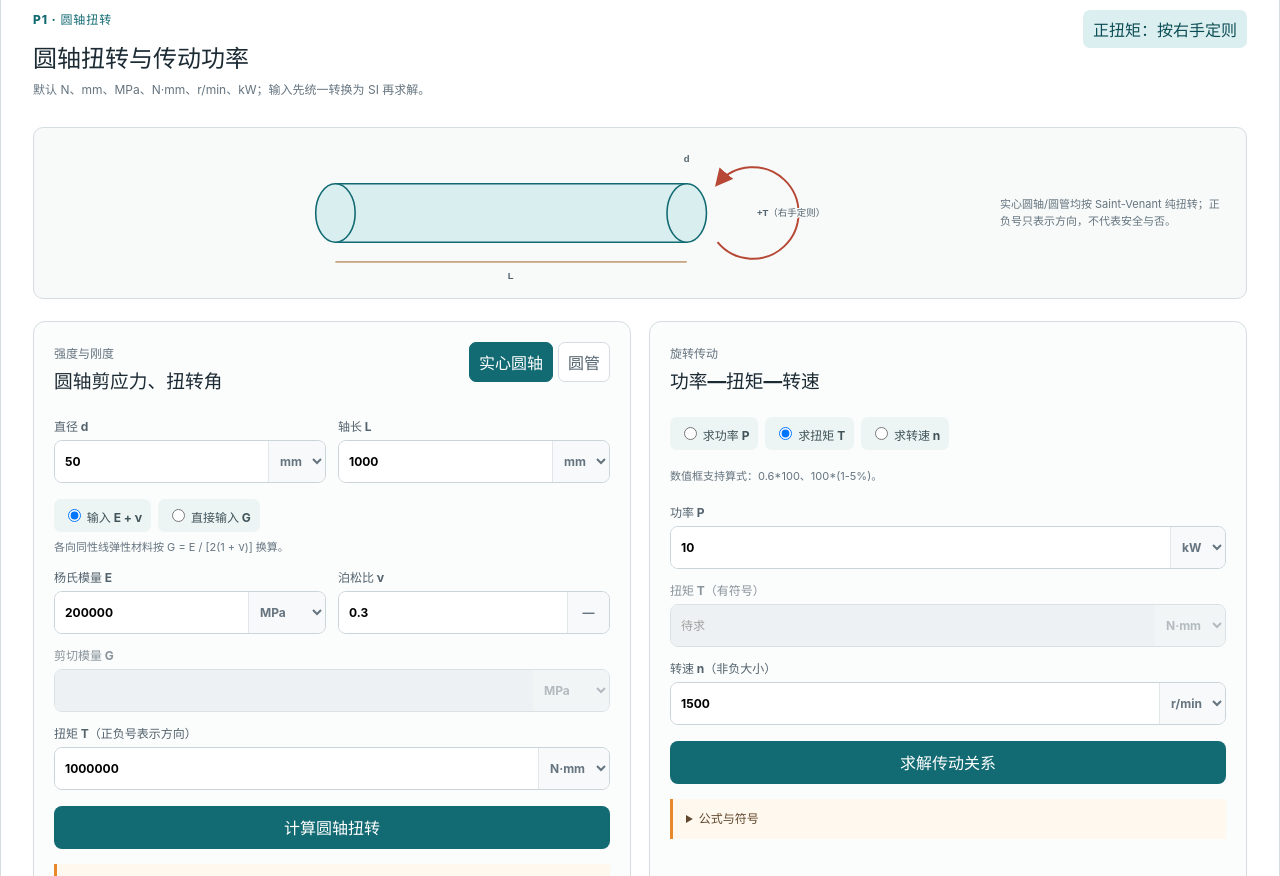
Test: TorsionCalculator › enforces mutually exclusive elastic constant input modes
The width and height of the screenshot is (1280, 876).
Expected: the field named "杨氏模量" is enabled, [55,592,248,632]
Expected: the field named "泊松比" is enabled, [339,592,567,632]
Click the radio button labelled "直接输入 G" at (179, 516), box [172,509,185,522]
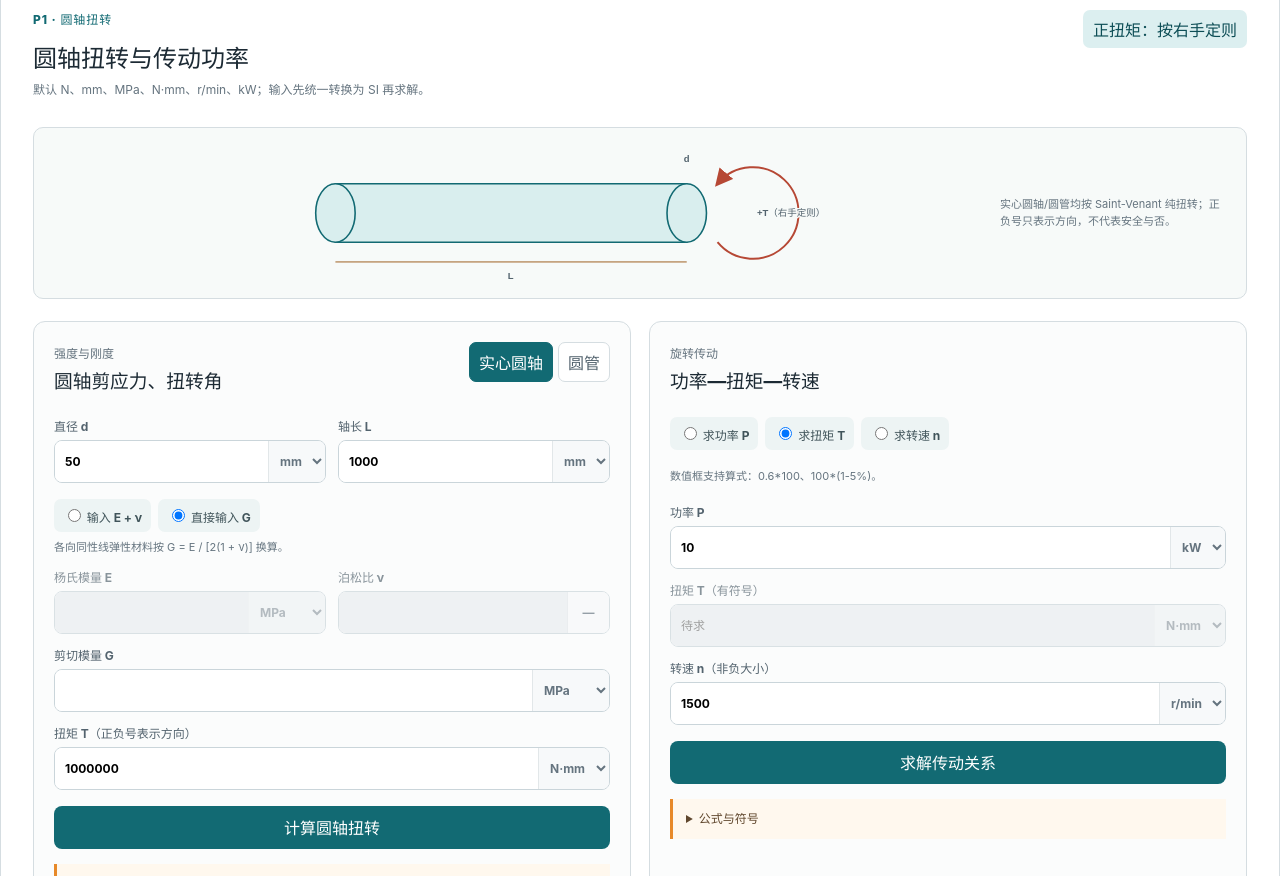
Now the field named "杨氏模量" is disabled, box [55,592,248,632]
Now the field named "泊松比" is disabled, box [339,592,567,632]
Now the field named "杨氏模量" is empty, box [55,592,248,632]
Type "80000" into the field named "剪切模量" at (294, 690), box [55,670,532,710]
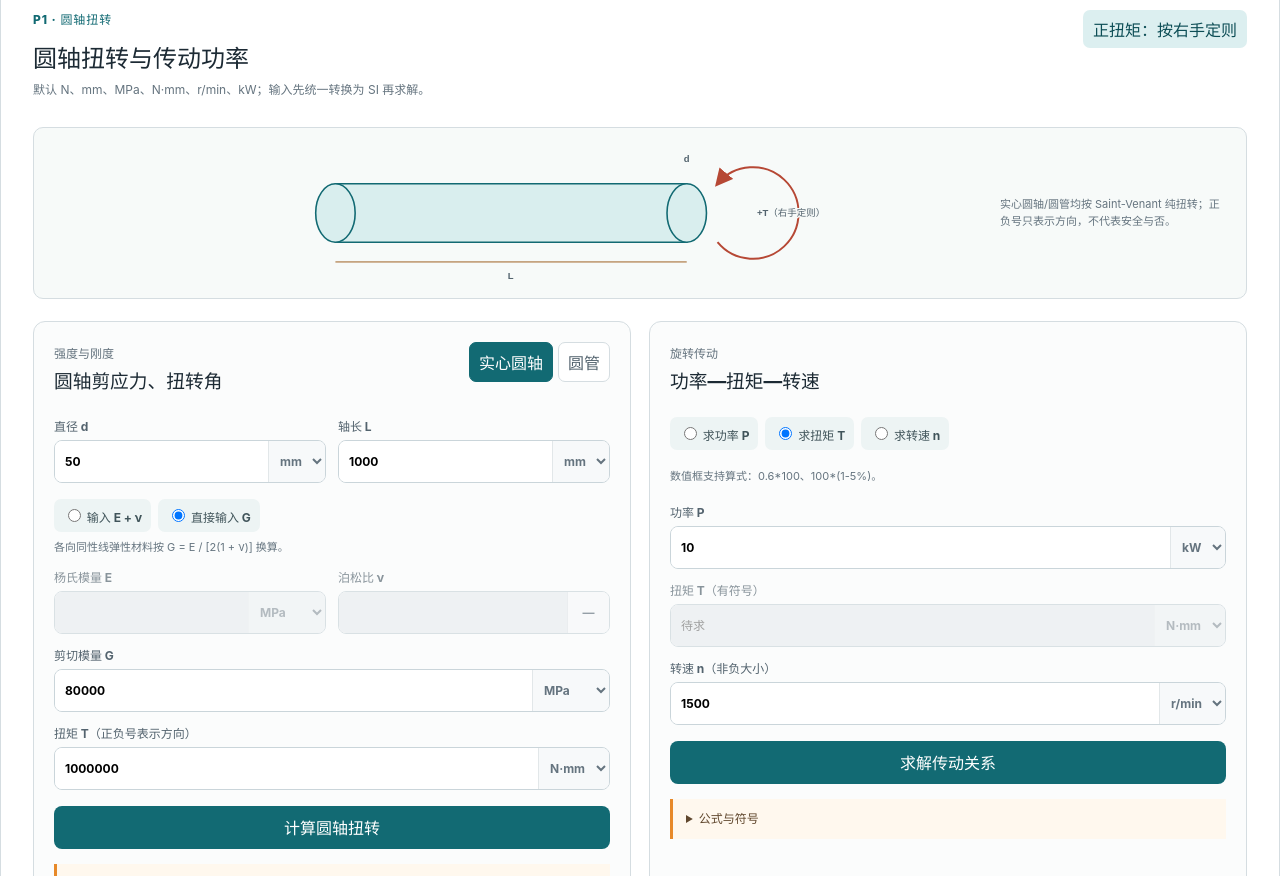
Click the button with class "calculate" showing "计算圆轴扭转" at (332, 827), box [54,806,610,848]
(page scrolled)
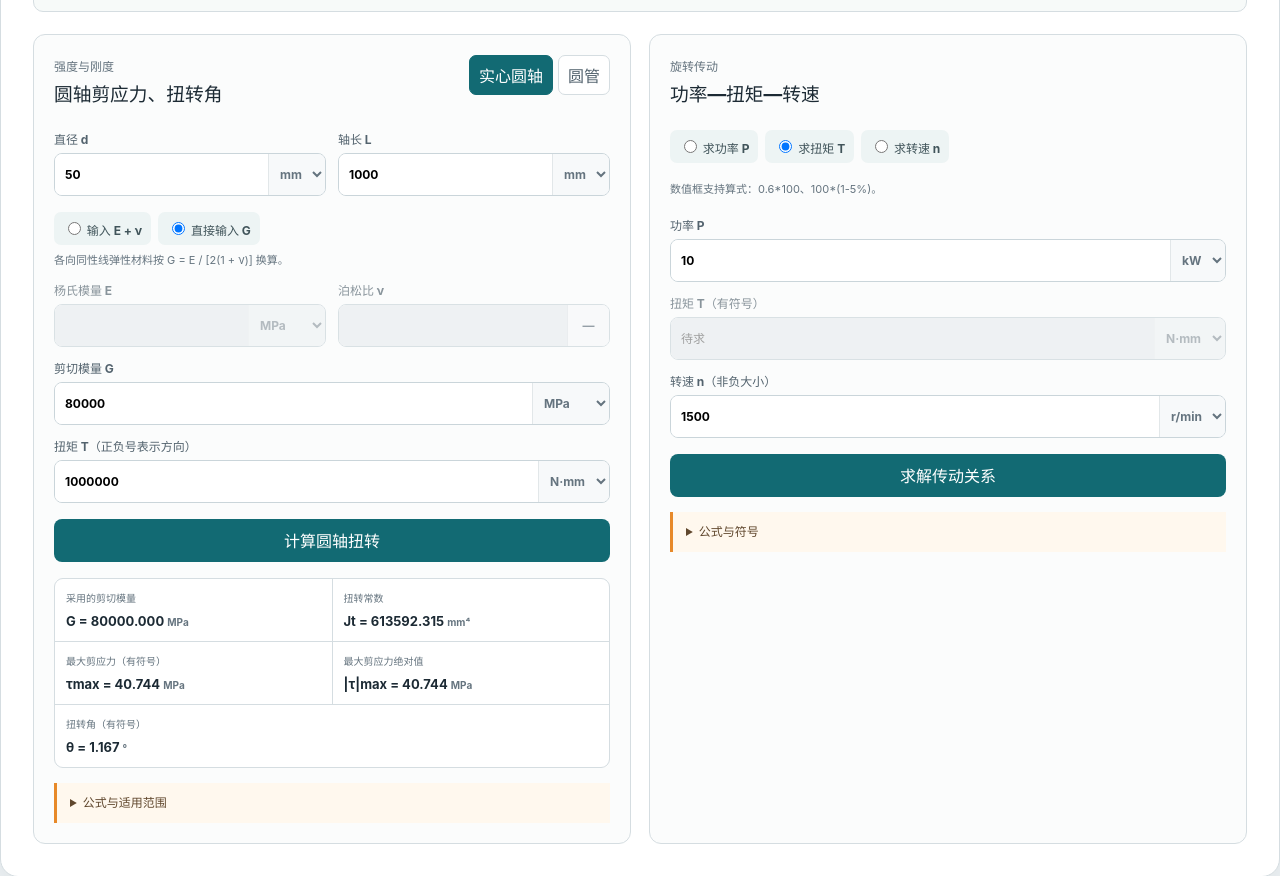
Now the element with test id "shaft-results" shows "1.167", box [66,738,123,754]
